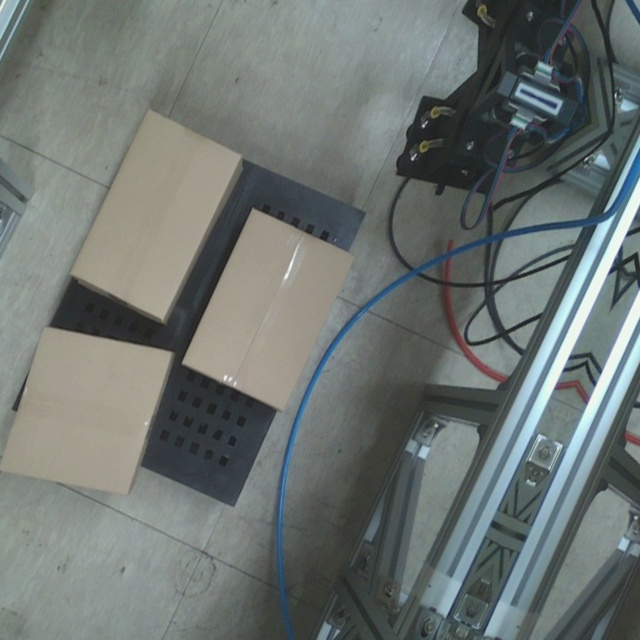box: (68, 107, 244, 322), (179, 206, 357, 413), (0, 325, 174, 500)
